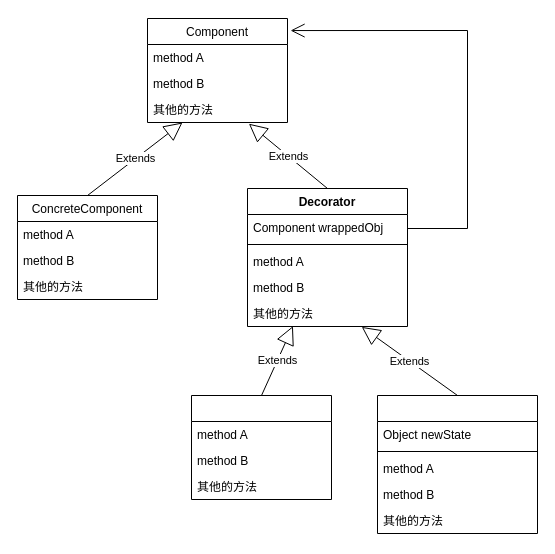
Some shapes in this 555 by 554 pixel diagram are drawn without their labels. The box of each missing label's shape, as (x1, y1, x2, y2) in pixels:
ConcreteDecoratorA: (190, 394, 332, 500)
ConcreteDecoratorB: (376, 394, 538, 534)
